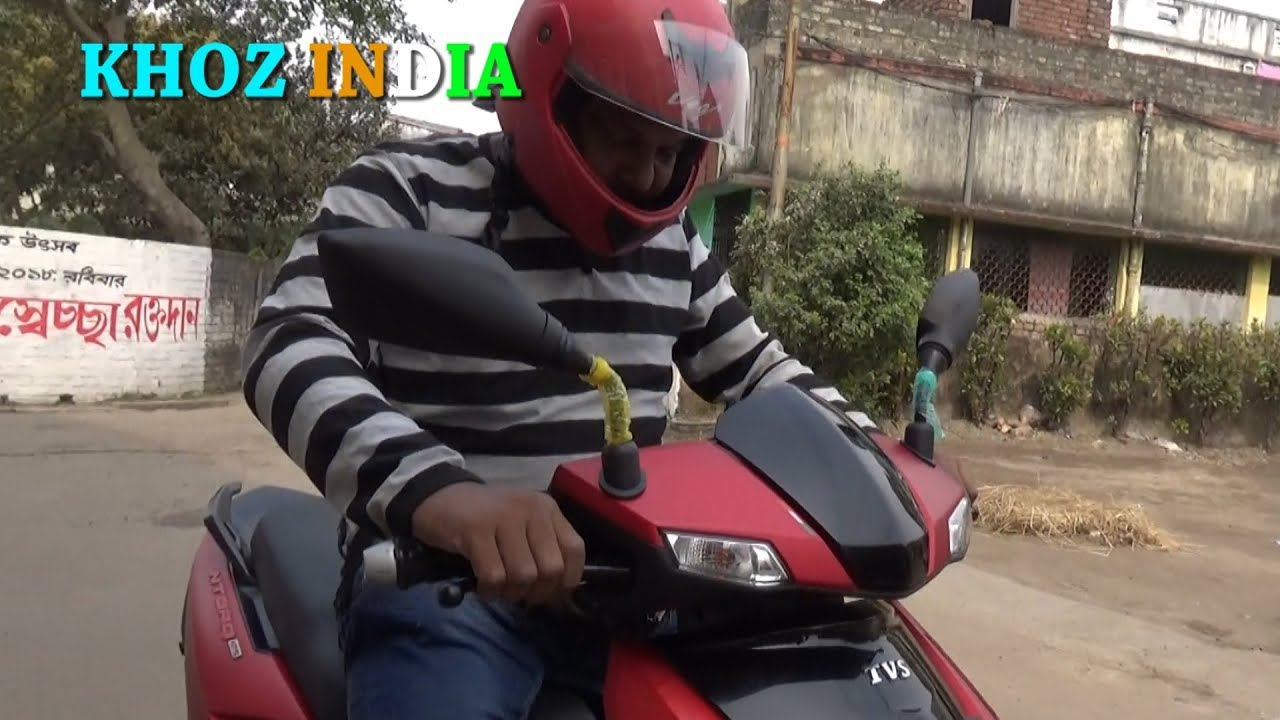with_helmet: (487, 6, 758, 278)
